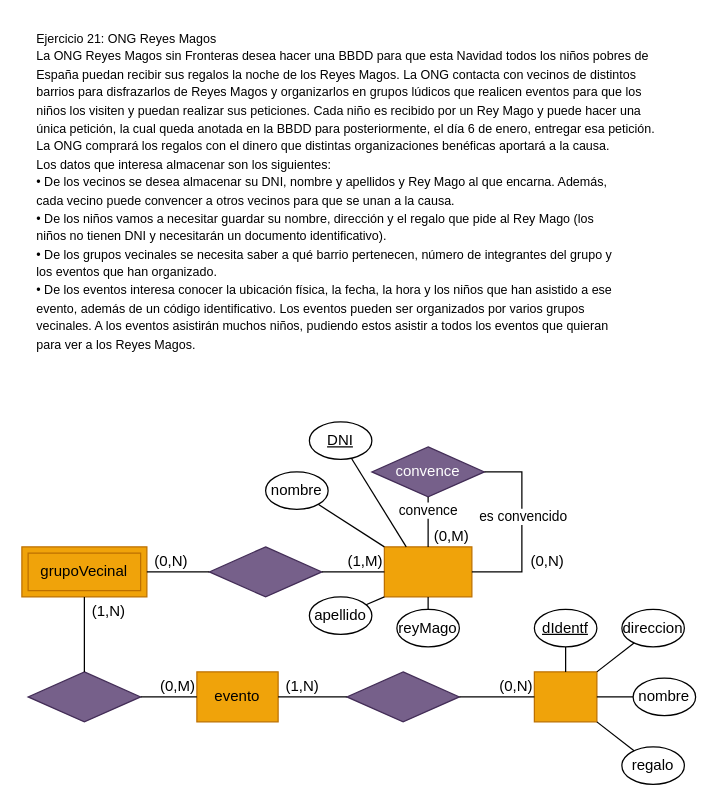
The diagram is 718 pixels wide and 806 high, and some of its shapes have lost their labels. Here are the shapes that lost their labels. From the top down, the box of each, then its label:
(208, 546, 322, 597): pertenece
(383, 546, 472, 597): vecino
(27, 671, 141, 722): organiza
(346, 671, 459, 722): asiste
(533, 671, 597, 722): niño
